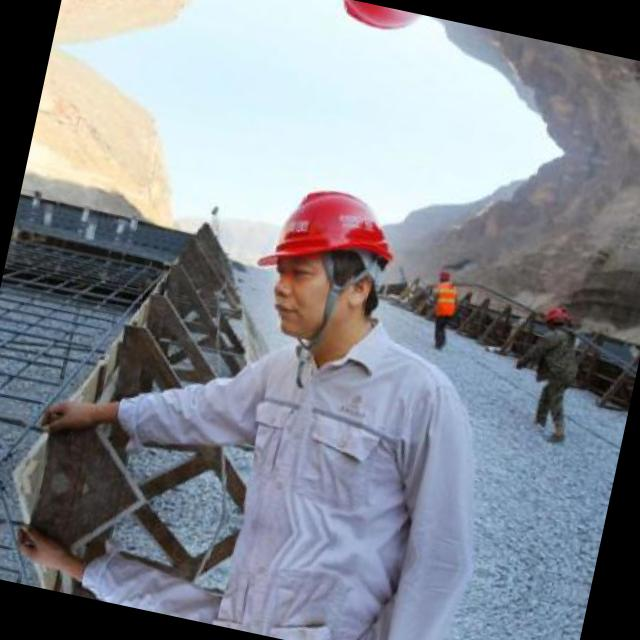helmet: (238, 158, 418, 366), (303, 0, 454, 62), (537, 299, 571, 330)
